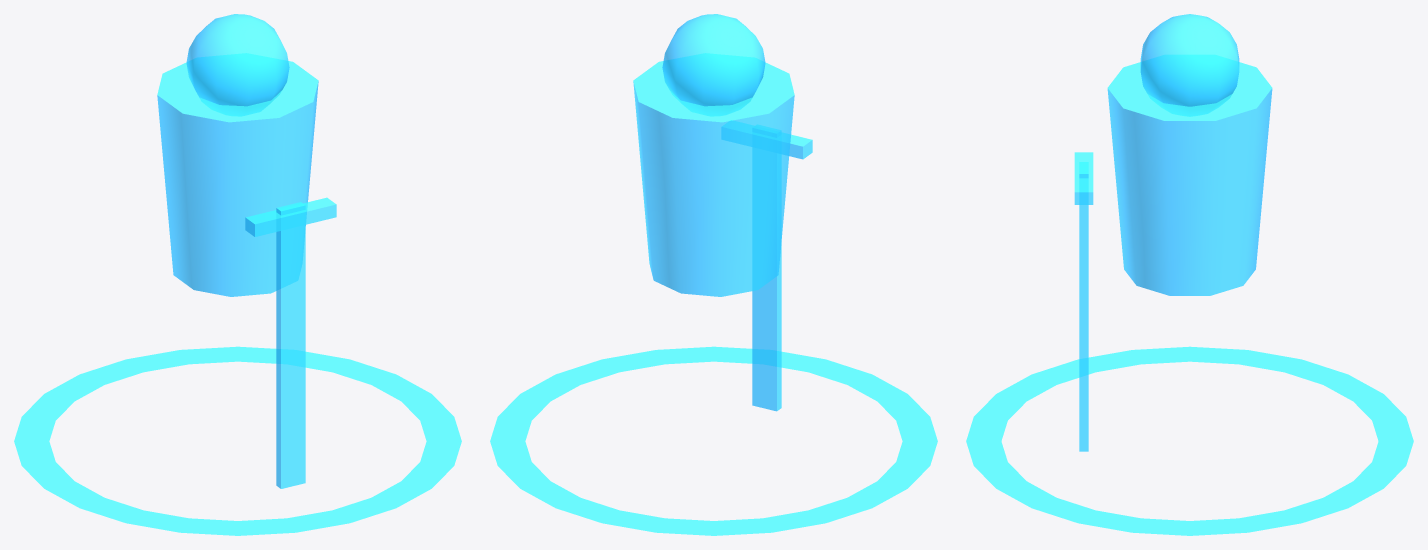
The model's file is npc_shadow_phantom.glb.
3 views of the same model, side by side, from view 1: azimuth 30°, elevation 25°; view 2: azimuth 150°, elevation 25°; view 3: azimuth 270°, elevation 25° (orthographic).
Visible parts, largest first — view 1: NPC_SHADOW_PHANTOM_SOLDIER; view 2: NPC_SHADOW_PHANTOM_SOLDIER; view 3: NPC_SHADOW_PHANTOM_SOLDIER.
Part boxes in pixels (bbox=[...]): NPC_SHADOW_PHANTOM_SOLDIER: bbox=[14, 14, 461, 535]; NPC_SHADOW_PHANTOM_SOLDIER: bbox=[490, 14, 937, 535]; NPC_SHADOW_PHANTOM_SOLDIER: bbox=[966, 14, 1413, 535].
Bounding box in the file's own units: 1.9 × 2 × 1.9.
